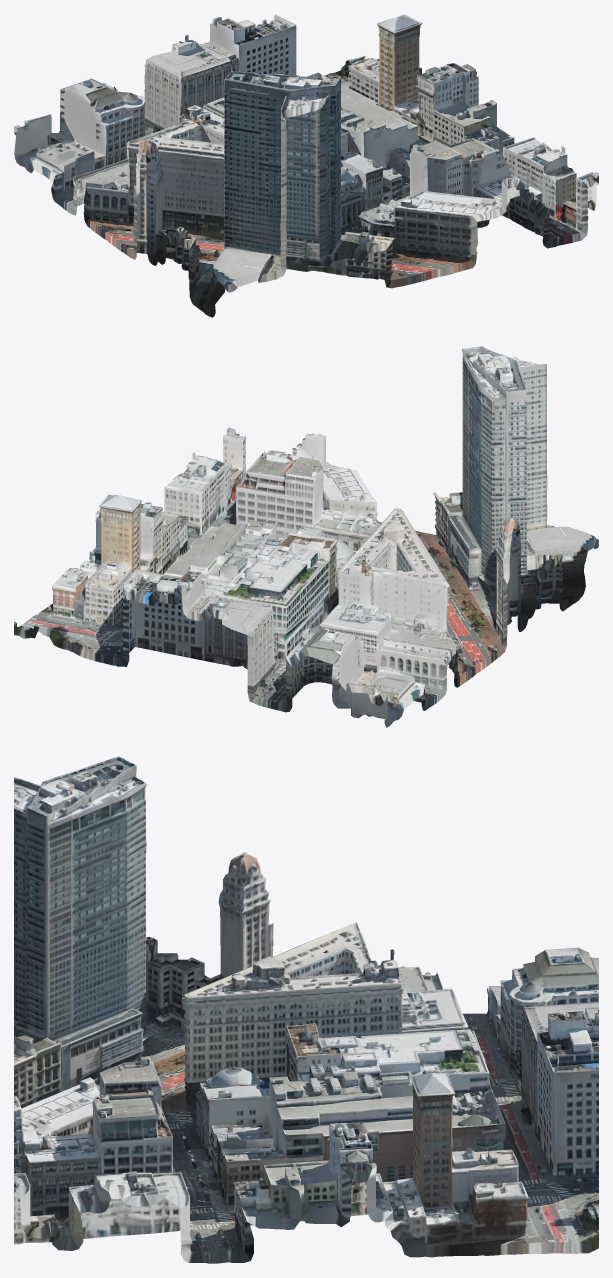
Rendered from z17-20969-50656-h0-yup-uvflip-v3-world.glb.
The picture shows the model from 3 angles, top to bottom: view 1: azimuth 30°, elevation 25°; view 2: azimuth 150°, elevation 25°; view 3: azimuth 270°, elevation 25°; orthographic projection. The views are drawn at different scales.
Size of the model in its own units: 241 by 136 by 243.
1 material, 1 textured.
